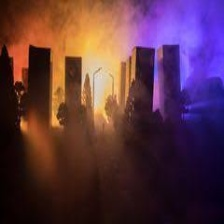smoke: (23, 127, 208, 216)
